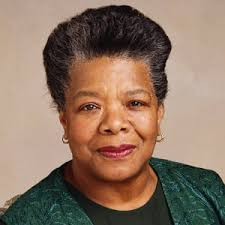black_female: (62, 39, 166, 189)
